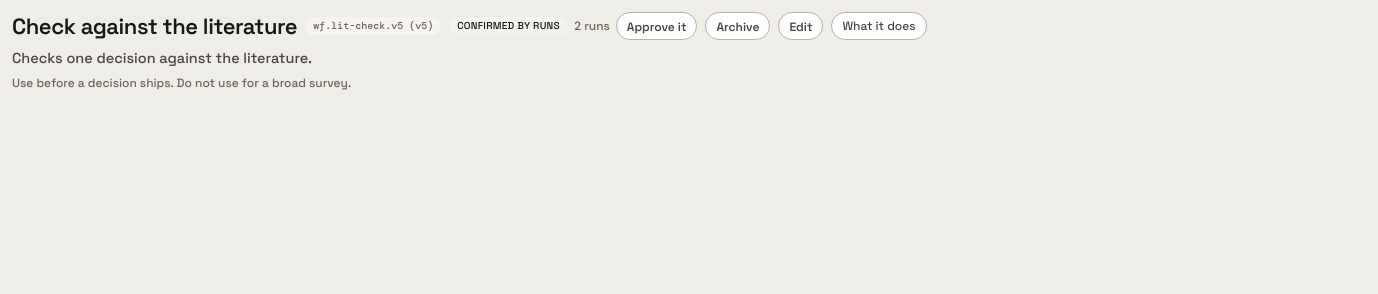
Test case: WorkflowHeader › approves from the header and shows the refreshed level
Click the button "Approve it". click: (657, 26)
box: x1=616 y1=12 x2=697 y2=40
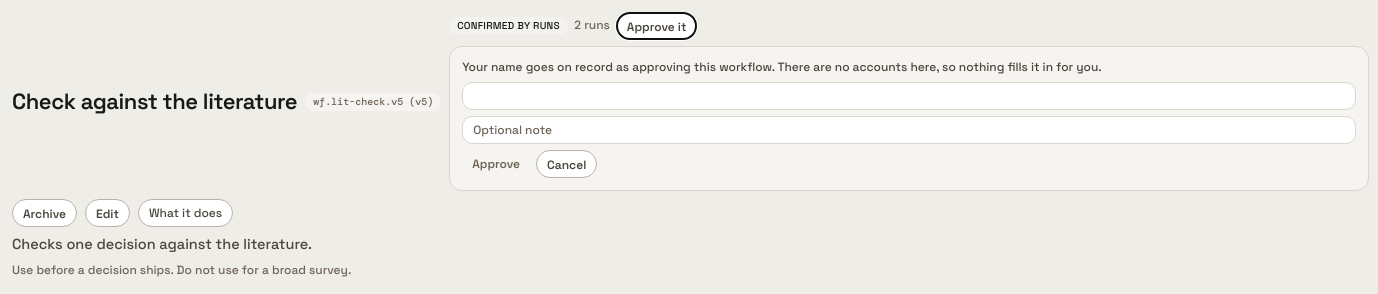
Type "owner" into the field named "Your name". click: (909, 96)
box: x1=462 y1=82 x2=1356 y2=110
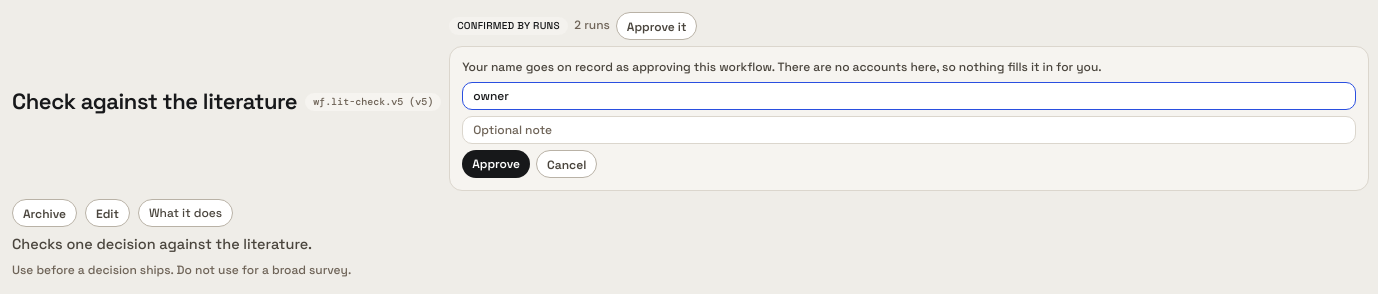
Click the button "Approve". click: (496, 164)
box: x1=462 y1=150 x2=530 y2=178
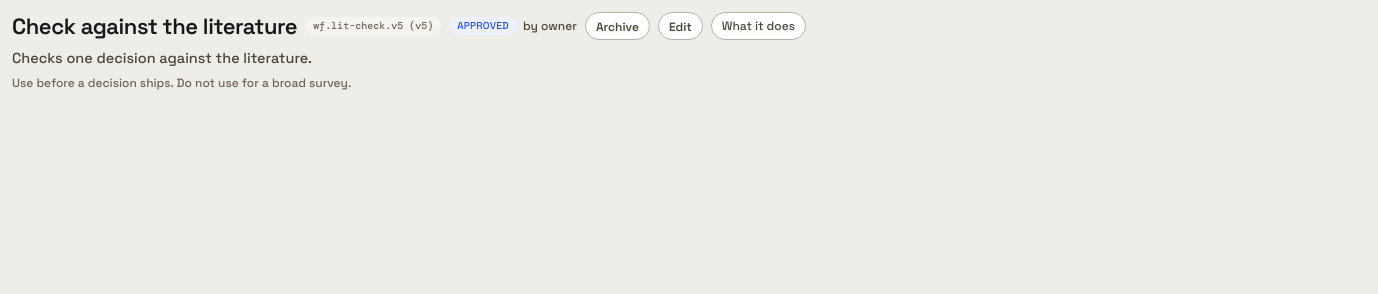
Expected: the text "approved" is shown, x1=449 y1=17 x2=517 y2=35
